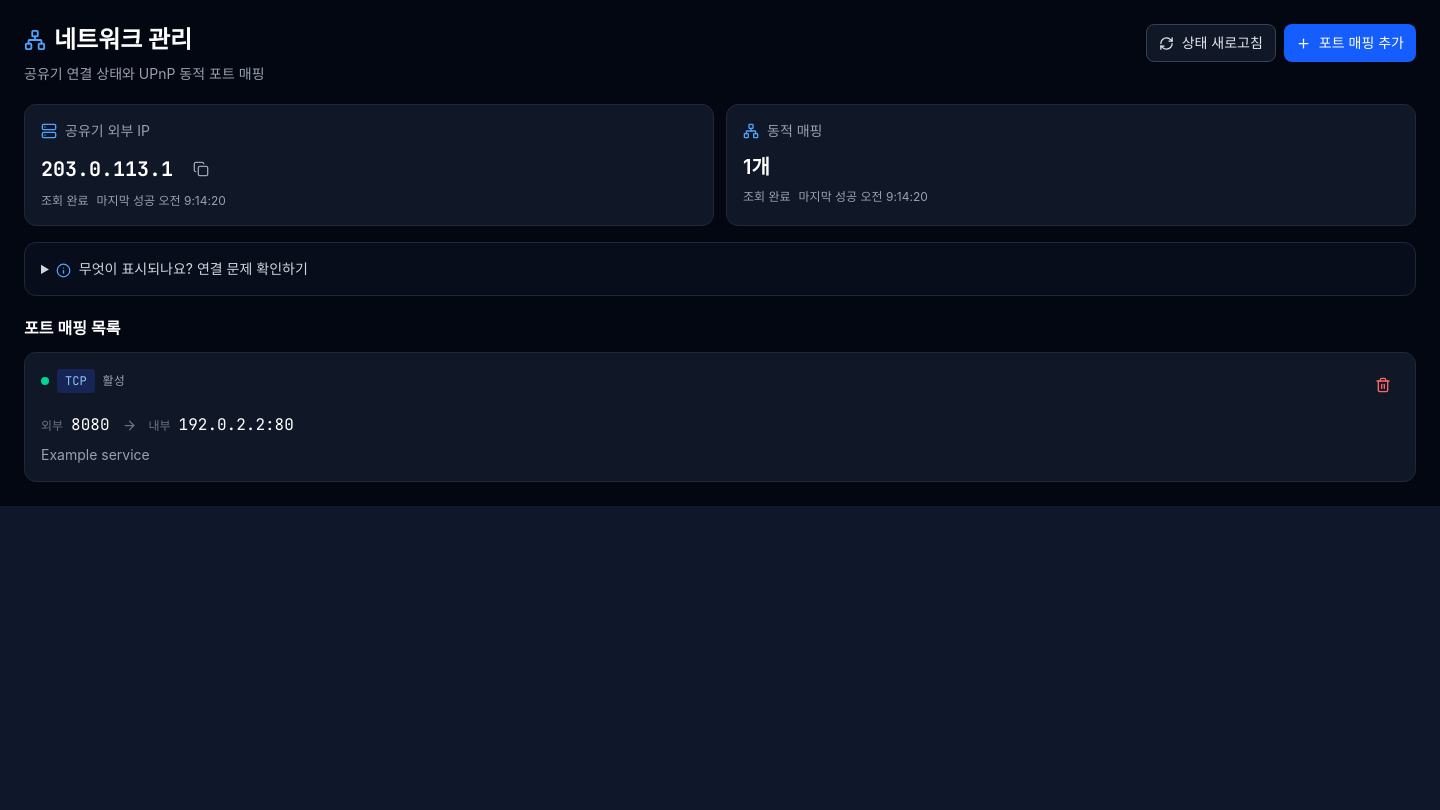
Test: 네트워크 상태와 복구 UX › 클립보드 실패를 성공으로 알리지 않음
Expected: the text "203.0.113.1" is shown, [41,155,173,183]
Step 1. Click the button named "외부 IP 복사" → {"x": 201, "y": 169}, box [185,153,217,185]
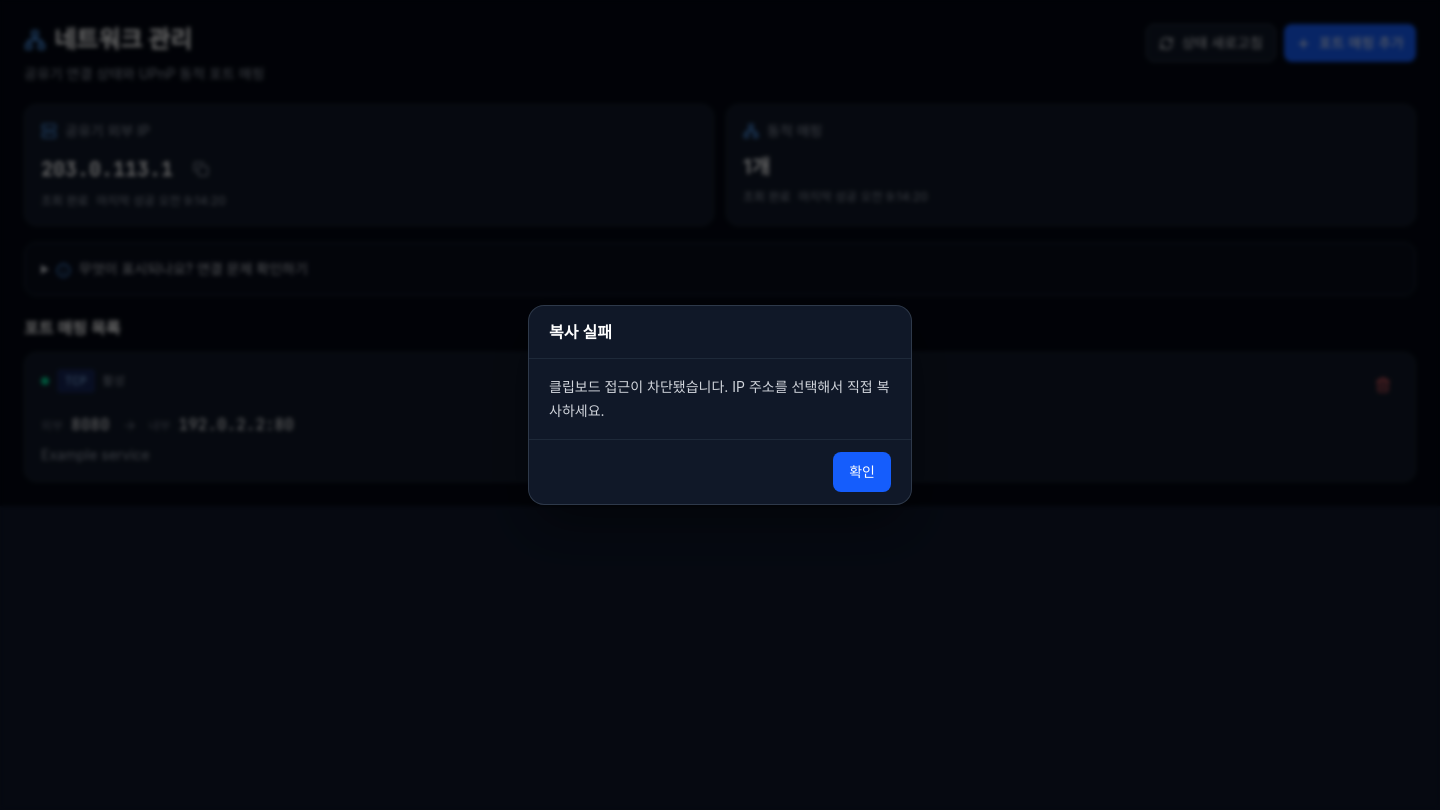
Expected: the dialog shows "복사 실패", [549,322,612,342]
